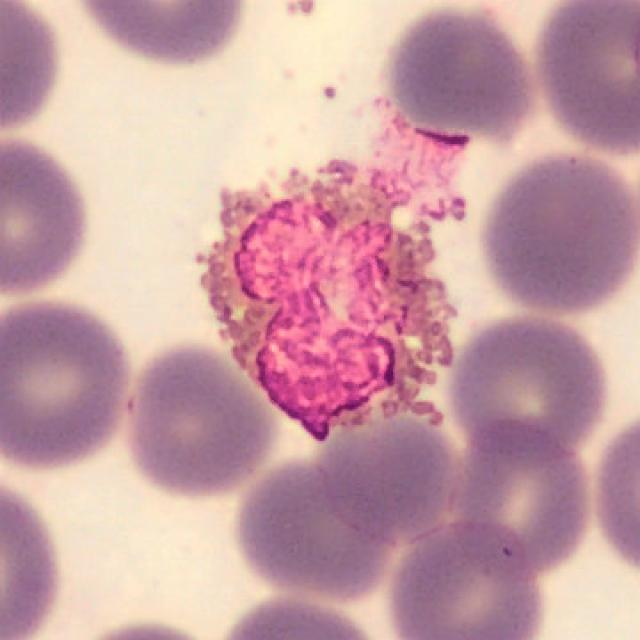Restos celulares: (201, 100, 468, 441)
